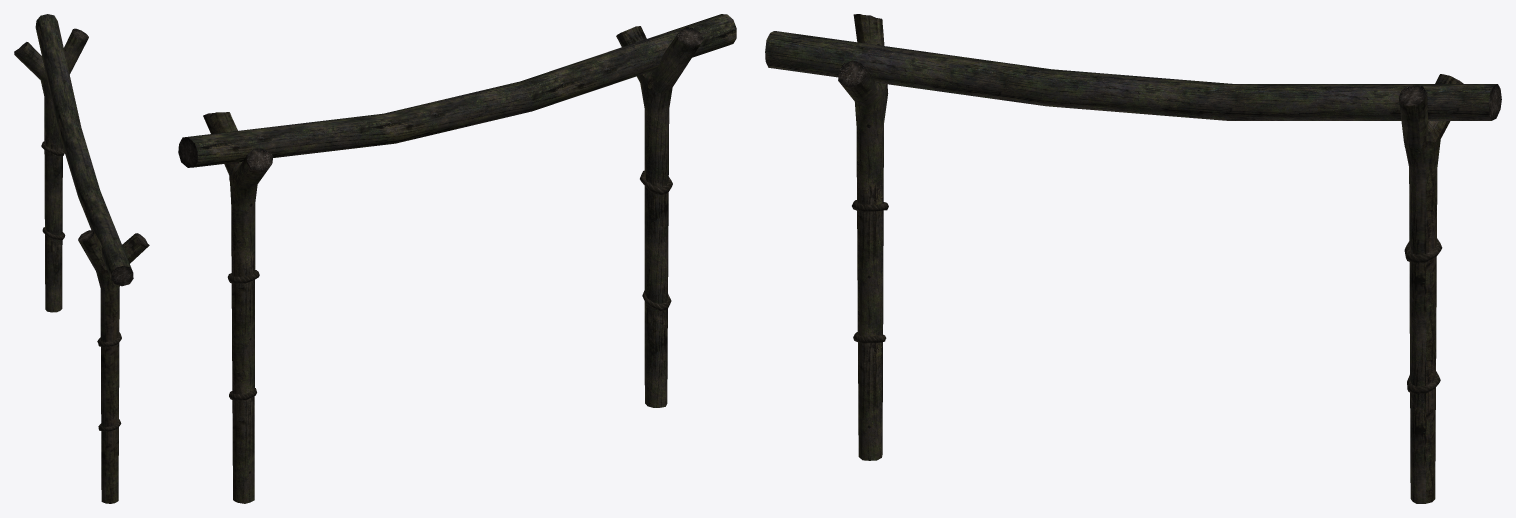
File: G3_Myrtana_Ardea_Palisaden_04.obj
3 renders of one model, left to right at view 1: azimuth 30°, elevation 25°; view 2: azimuth 150°, elevation 25°; view 3: azimuth 270°, elevation 25°, orthographic. The views are drawn at different scales.
Visible parts, largest first — view 1: G3_Myrtana_Ardea_Palisaden_04_0, G3_Myrtana_Ardea_Palisaden_04_1, G3_Myrtana_Ardea_Palisaden_04_2; view 2: G3_Myrtana_Ardea_Palisaden_04_0, G3_Myrtana_Ardea_Palisaden_04_1, G3_Myrtana_Ardea_Palisaden_04_2; view 3: G3_Myrtana_Ardea_Palisaden_04_0, G3_Myrtana_Ardea_Palisaden_04_1, G3_Myrtana_Ardea_Palisaden_04_2.
Part boxes in pixels (<box>): G3_Myrtana_Ardea_Palisaden_04_0: <box>15,14,148,503</box>; G3_Myrtana_Ardea_Palisaden_04_1: <box>14,28,149,286</box>; G3_Myrtana_Ardea_Palisaden_04_2: <box>41,141,121,432</box>; G3_Myrtana_Ardea_Palisaden_04_0: <box>183,14,736,503</box>; G3_Myrtana_Ardea_Palisaden_04_1: <box>178,26,703,170</box>; G3_Myrtana_Ardea_Palisaden_04_2: <box>227,170,672,400</box>; G3_Myrtana_Ardea_Palisaden_04_0: <box>765,14,1496,503</box>; G3_Myrtana_Ardea_Palisaden_04_1: <box>838,15,1501,120</box>; G3_Myrtana_Ardea_Palisaden_04_2: <box>852,200,1442,394</box>.
Size of the model in its own units: 3.7 by 5.87 by 8.23.
